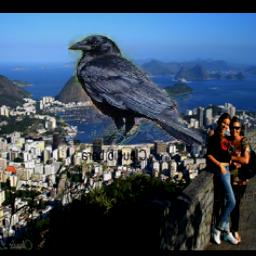Crow: (67, 34, 204, 147)
